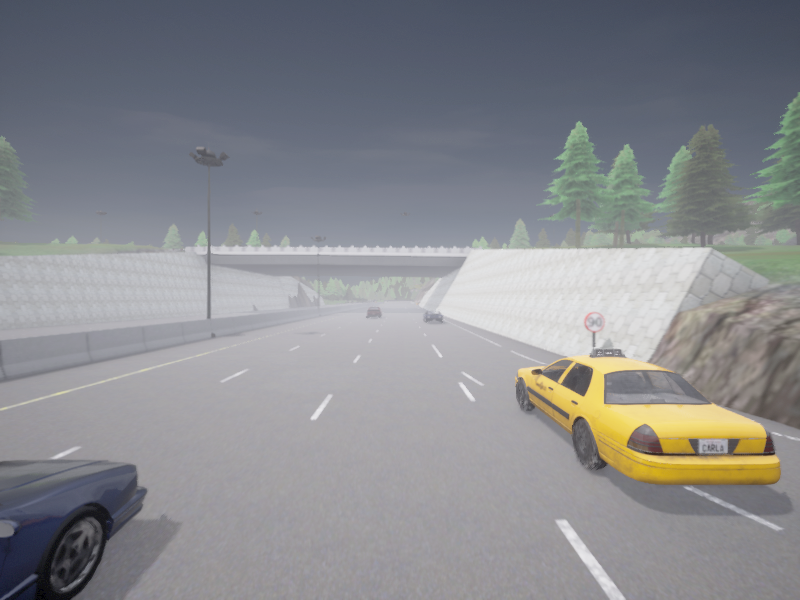vehicle: (515, 349, 780, 484), (0, 459, 147, 599), (423, 310, 442, 322), (367, 306, 382, 317)
